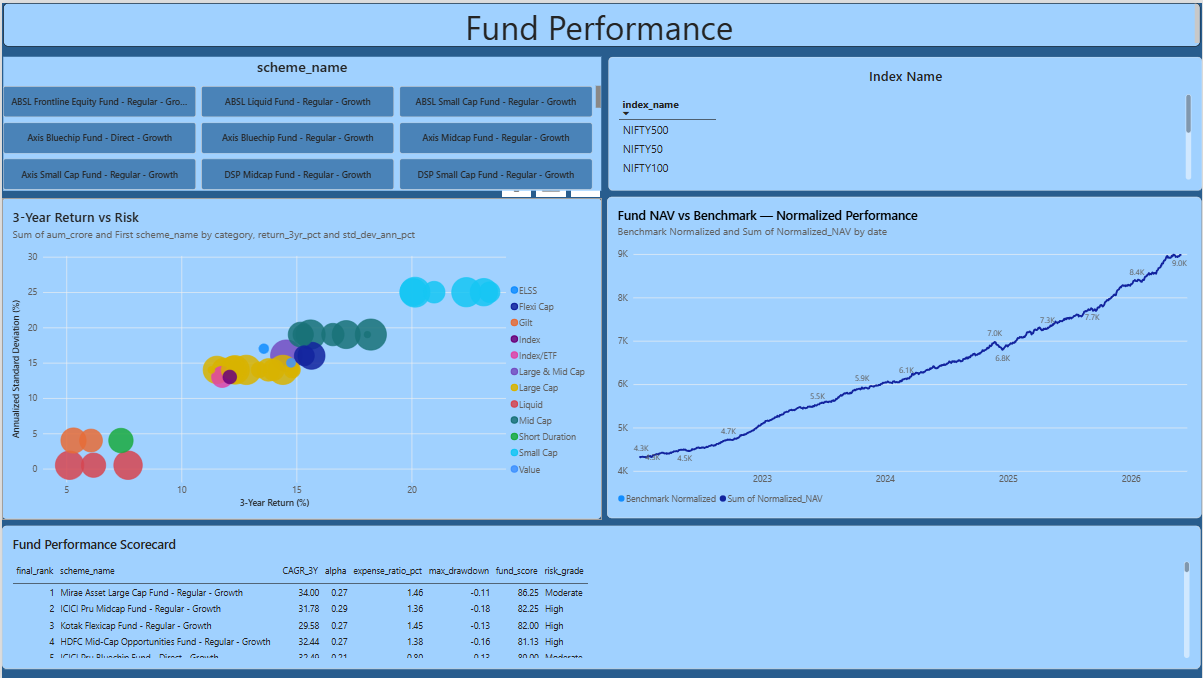

The page's visual inventory and layout, read from the dashboard file:
{"tool":"powerbi","page":{"name":"Fund Performance","canvas":[1920,1080],"ordinal":1},"visuals":[{"type":"scatterChart","title":"3-Year Return vs Risk","fields":{"Series":["07_scheme_performance.category"],"Size":["Sum(07_scheme_performance.aum_crore)"],"X":["07_scheme_performance.return_3yr_pct"],"Y":["07_scheme_performance.std_dev_ann_pct"]},"box":[0,311.6,959.1,513.9],"z":0},{"type":"tableEx","title":"Fund Performance Scorecard","fields":{"Values":["fund_scorecard.final_rank","fund_scorecard.scheme_name","fund_scorecard.CAGR_3Y","fund_scorecard.alpha","fund_scorecard.expense_ratio_pct","fund_scorecard.max_drawdown","fund_scorecard.fund_score","fund_scorecard.risk_grade"]},"box":[0,835.4,1917.4,229.4],"z":1000},{"type":"lineChart","title":"Fund NAV vs Benchmark — Normalized Performance","fields":{"Category":["02_nav_history.date"],"Y":["01_fund_master.Benchmark Normalized","Sum(02_nav_history.Normalized_NAV)"]},"box":[968.2,309.5,951,514],"z":2000},{"type":"advancedSlicerVisual","fields":{"Values":["01_fund_master.scheme_name"]},"box":[2.2,86.6,956.6,214.3],"z":3000},{"type":"tableEx","title":"Index Name","fields":{"Values":["DimBenchmark.index_name"]},"box":[969.5,86.6,950.1,214.3],"z":4000},{"type":"textbox","box":[2.2,0,1915.3,69.3],"z":4001}]}

Visuals, with their boxes in screenshot pixels (x1, y1, x2, y2), scaled from the page's 1920x1080 canvas onto the 1203x678 screenshot:
"3-Year Return vs Risk" scatterChart: Rect(0, 196, 601, 518)
"Fund Performance Scorecard" tableEx: Rect(0, 524, 1201, 668)
"Fund NAV vs Benchmark — Normalized Performance" lineChart: Rect(607, 194, 1202, 517)
advancedSlicerVisual - 01_fund_master.scheme_name: Rect(1, 54, 601, 189)
"Index Name" tableEx: Rect(607, 54, 1202, 189)
textbox: Rect(1, 0, 1201, 44)
